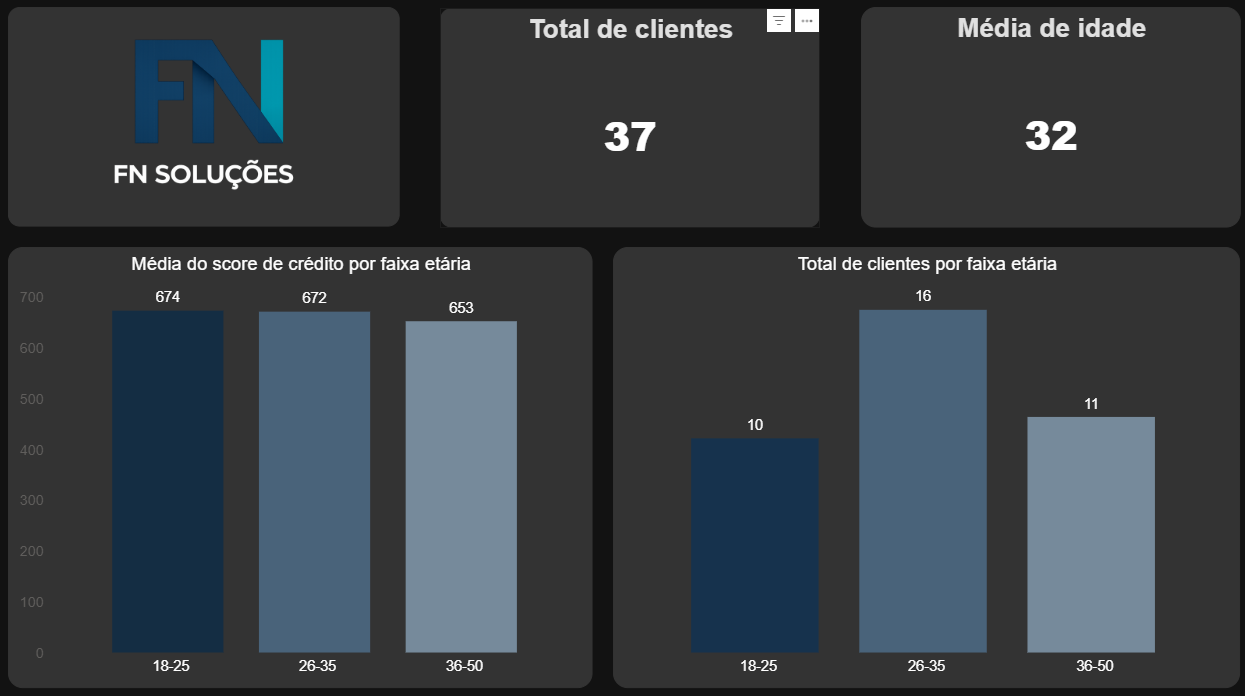

What the dashboard file says about the page in this screenshot:
{"tool":"powerbi","page":{"name":"Perfil do cliente","canvas":[1280,720],"ordinal":0},"visuals":[{"type":"card","title":"Total de clientes","fields":{"Values":["Count(dados_cliente_tratados.id_cliente)"]},"box":[455.2,16.5,384.2,221.8],"z":0},{"type":"clusteredColumnChart","title":"Média do score de crédito por faixa etária","fields":{"Category":["dados_cliente_tratados.faixa_etaria"],"Y":["dados_analise_credito_tratados.media_score"]},"box":[18.3,257.9,591.1,446],"z":1000},{"type":"clusteredColumnChart","title":"Total de clientes por faixa etária","fields":{"Category":["dados_cliente_tratados.faixa_etaria"],"Y":["Count(dados_cliente_tratados.id_cliente)"]},"box":[629.8,257.9,634.1,446],"z":2000},{"type":"card","title":"Média de idade","fields":{"Values":["Avg(dados_cliente_tratados.idade)"]},"box":[880.2,15.6,384.2,222.7],"z":3000},{"type":"image","box":[18.5,15.6,395.9,221.8],"z":4000}]}

Visuals, with their boxes in screenshot pixels (x1, y1, x2, y2), scaled from the page's 1280x720 canvas onto the 1245x696 screenshot:
"Total de clientes" card: <region>443, 16, 816, 230</region>
"Média do score de crédito por faixa etária" clusteredColumnChart: <region>18, 249, 593, 680</region>
"Total de clientes por faixa etária" clusteredColumnChart: <region>613, 249, 1229, 680</region>
"Média de idade" card: <region>856, 15, 1230, 230</region>
image: <region>18, 15, 403, 229</region>
